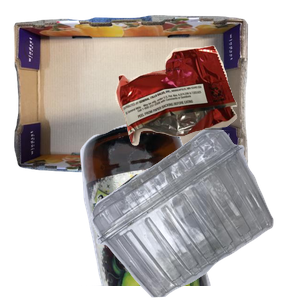cardboard: (11, 13, 251, 182)
glass: (78, 120, 281, 300)
plastic: (88, 130, 300, 300)
trash: (113, 43, 300, 181)
